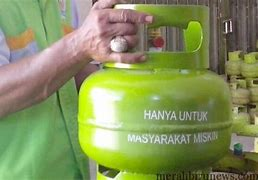gas_ijo: (77, 4, 232, 180), (229, 77, 258, 107), (225, 48, 243, 75)
